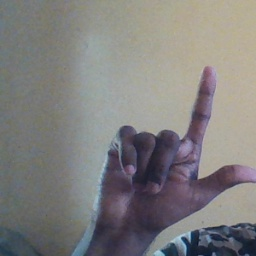L: (89, 65, 256, 229)
